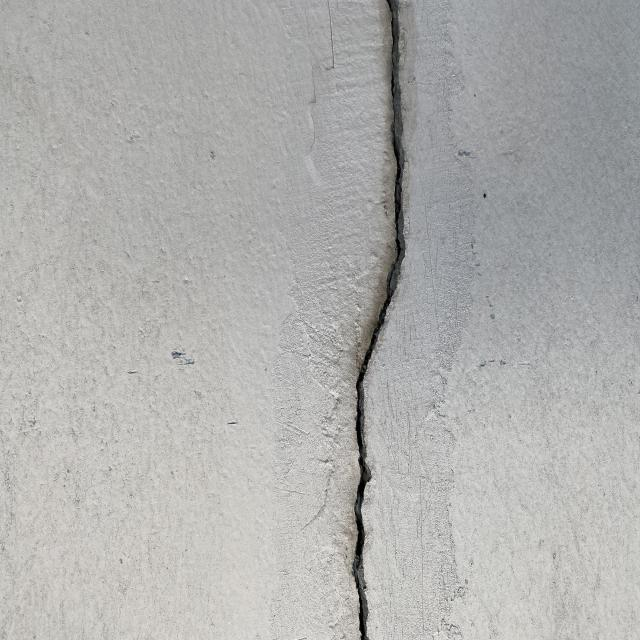SurfaceCrack: (295, 0, 448, 640)
